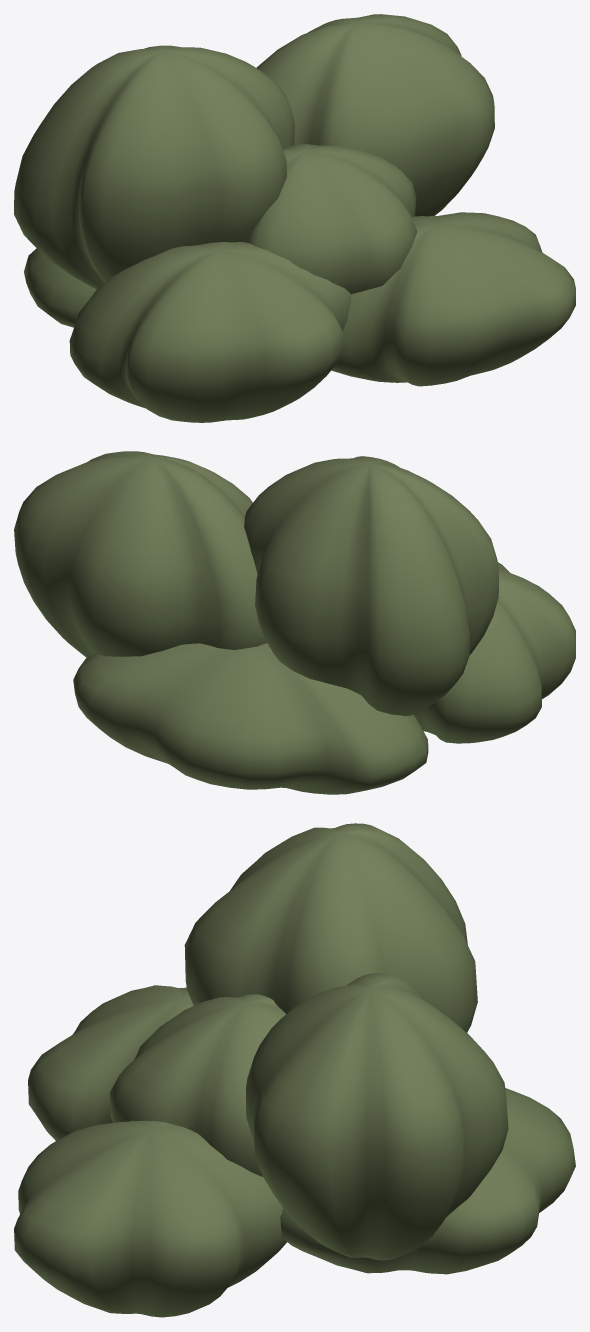
File: shrub-c.glb
3 views of the same model, one above another, from view 1: azimuth 30°, elevation 25°; view 2: azimuth 150°, elevation 25°; view 3: azimuth 270°, elevation 25° (orthographic). The views are drawn at different scales.
Parts seen in each view (by area): view 1: shrub-c; view 2: shrub-c; view 3: shrub-c.
Part boxes in pixels (left/top/right/bottom): shrub-c: left=14, top=14, right=575, bottom=422; shrub-c: left=14, top=451, right=575, bottom=794; shrub-c: left=14, top=823, right=575, bottom=1317.
Size of the model in its own units: 1.3 by 0.85 by 1.2.
